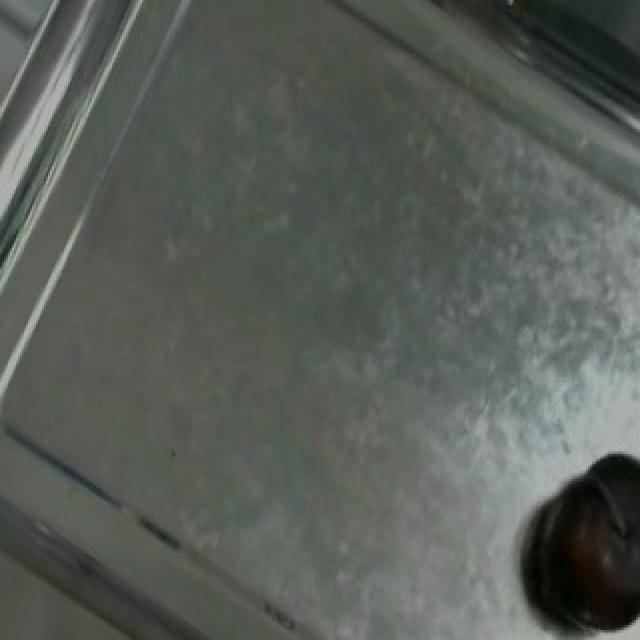Fruit: (524, 439, 640, 640)
